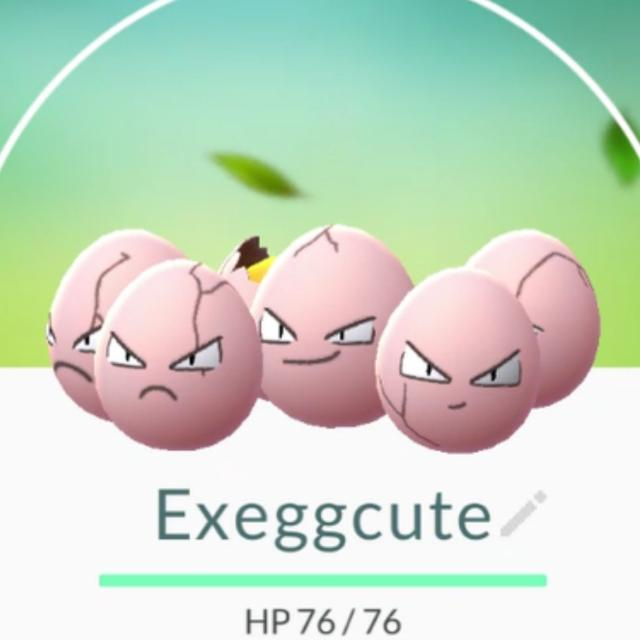Exeggcute: (37, 221, 603, 450)
